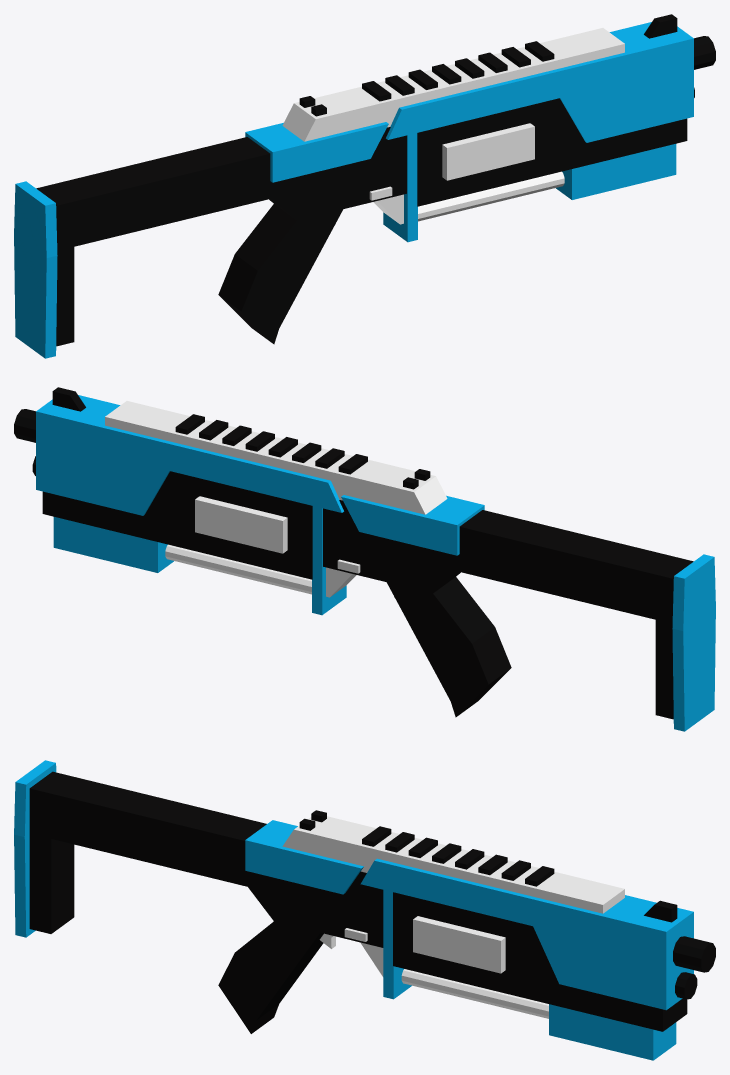
The model's file is shotgun_low_poly.glb.
3 renders of one model, top to bottom at view 1: azimuth 30°, elevation 25°; view 2: azimuth 150°, elevation 25°; view 3: azimuth 330°, elevation 25°, orthographic.
Visible parts, largest first — view 1: Cube, Cube.004, Cube.002, Cube.005, Cube.003, Cube.006, Cube.011, Cube.008, Cylinder, Cube.001, Cylinder.001, Cube.007 (+1 smaller); view 2: Cube, Cube.004, Cube.002, Cube.005, Cube.003, Cube.006, Cube.011, Cube.008, Cylinder, Cube.001, Cylinder.001, Cube.007 (+1 smaller); view 3: Cube, Cube.004, Cube.002, Cube.005, Cube.003, Cube.006, Cube.011, Cube.008, Cylinder, Cube.001, Cylinder.001, Cylinder.002 (+1 smaller).
Boxes of the visible parts, left/top/right/bottom form: Cube: left=14, top=127, right=406, bottom=358; Cube.004: left=386, top=22, right=693, bottom=142; Cube.002: left=417, top=98, right=687, bottom=206; Cube.005: left=282, top=28, right=624, bottom=141; Cube.003: left=245, top=122, right=388, bottom=182; Cube.006: left=556, top=144, right=676, bottom=199; Cube.011: left=442, top=123, right=534, bottom=180; Cube.008: left=362, top=41, right=554, bottom=101; Cylinder: left=418, top=171, right=564, bottom=221; Cube.001: left=383, top=133, right=417, bottom=242; Cylinder.001: left=694, top=36, right=715, bottom=69; Cube.007: left=644, top=14, right=677, bottom=38; Cube: left=323, top=500, right=715, bottom=731; Cube.004: left=36, top=395, right=343, bottom=515; Cube.002: left=42, top=471, right=312, bottom=579; Cube.005: left=105, top=401, right=447, bottom=514; Cube.003: left=341, top=495, right=484, bottom=555; Cube.006: left=53, top=517, right=173, bottom=572; Cube.011: left=195, top=496, right=287, bottom=553; Cube.008: left=175, top=414, right=367, bottom=474; Cylinder: left=165, top=544, right=311, bottom=594; Cube.001: left=312, top=506, right=346, bottom=615; Cylinder.001: left=14, top=409, right=35, bottom=442; Cube.007: left=52, top=387, right=85, bottom=411; Cube: left=14, top=760, right=383, bottom=1033; Cube.004: left=360, top=858, right=693, bottom=1010; Cube.002: left=393, top=892, right=687, bottom=1031; Cube.005: left=282, top=816, right=624, bottom=913; Cube.003: left=245, top=820, right=363, bottom=894; Cube.006: left=549, top=1004, right=676, bottom=1060; Cube.011: left=413, top=916, right=505, bottom=973; Cube.008: left=362, top=826, right=554, bottom=886; Cylinder: left=401, top=969, right=548, bottom=1018; Cube.001: left=383, top=890, right=411, bottom=999; Cylinder.001: left=673, top=936, right=715, bottom=972; Cylinder.002: left=675, top=972, right=697, bottom=999.
Bounding box in the file's own units: 34.01 × 10.58 × 2.95.
